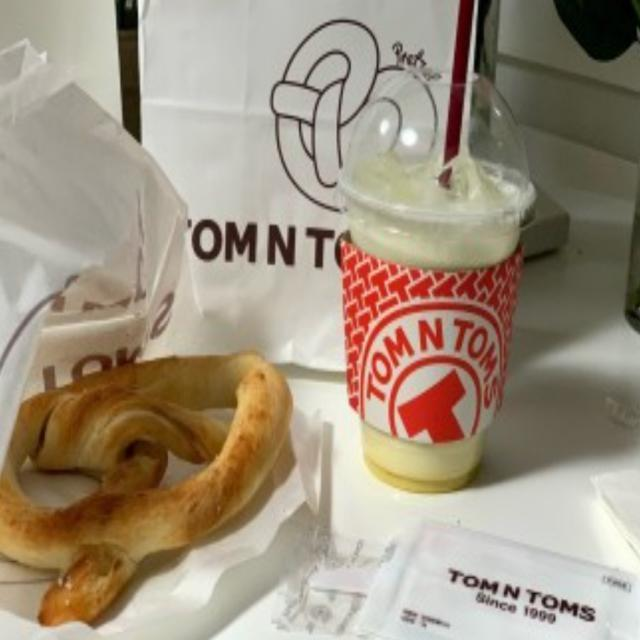bottle: (339, 198, 524, 491)
